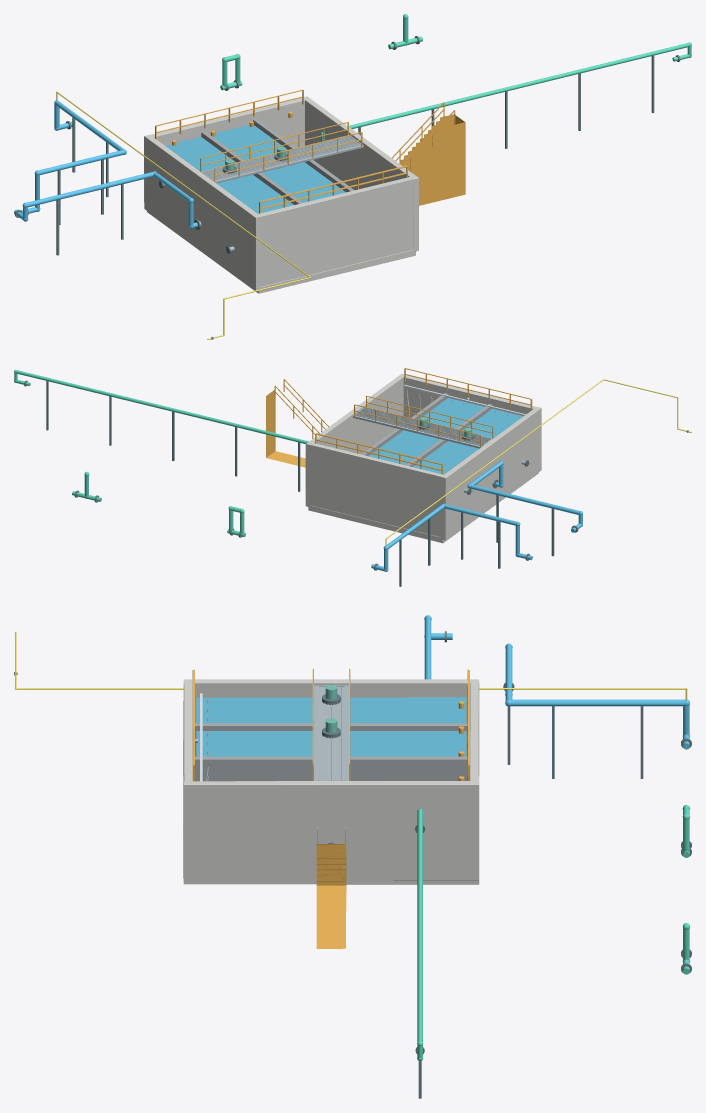
3 views of the same model, one above another, from view 1: azimuth 30°, elevation 25°; view 2: azimuth 150°, elevation 25°; view 3: azimuth 270°, elevation 25° (orthographic). The views are drawn at different scales.
Parts seen in each view (by area): view 1: render-batch-8, render-batch-10, render-batch-3, render-batch-0, render-batch-1, render-batch-7, render-batch-4, render-batch-6, render-batch-11; view 2: render-batch-8, render-batch-3, render-batch-10, render-batch-0, render-batch-1, render-batch-4, render-batch-7, render-batch-6, render-batch-11, render-batch-9; view 3: render-batch-8, render-batch-3, render-batch-6, render-batch-10, render-batch-7, render-batch-0, render-batch-1, render-batch-4, render-batch-11.
Part boxes in pixels (left/top/right/bottom): render-batch-8: left=144, top=96, right=418, bottom=293; render-batch-10: left=155, top=89, right=465, bottom=213; render-batch-3: left=165, top=125, right=345, bottom=213; render-batch-0: left=14, top=100, right=197, bottom=228; render-batch-1: left=220, top=14, right=691, bottom=141; render-batch-7: left=163, top=135, right=363, bottom=251; render-batch-4: left=14, top=36, right=680, bottom=339; render-batch-6: left=201, top=118, right=354, bottom=204; render-batch-11: left=56, top=91, right=311, bottom=339; render-batch-8: left=305, top=374, right=541, bottom=543; render-batch-3: left=369, top=398, right=523, bottom=474; render-batch-10: left=266, top=368, right=532, bottom=474; render-batch-0: left=371, top=461, right=582, bottom=571; render-batch-1: left=14, top=369, right=331, bottom=537; render-batch-4: left=24, top=380, right=688, bottom=586; render-batch-7: left=353, top=397, right=525, bottom=492; render-batch-6: left=361, top=393, right=492, bottom=466; render-batch-11: left=385, top=379, right=691, bottom=546; render-batch-9: left=403, top=384, right=525, bottom=418; render-batch-8: left=183, top=679, right=479, bottom=884; render-batch-3: left=196, top=697, right=466, bottom=756; render-batch-6: left=195, top=723, right=467, bottom=781; render-batch-10: left=192, top=668, right=470, bottom=948; render-batch-7: left=195, top=685, right=348, bottom=780; render-batch-0: left=424, top=615, right=689, bottom=749; render-batch-1: left=417, top=805, right=690, bottom=1061; render-batch-4: left=14, top=631, right=691, bottom=1098; render-batch-11: left=15, top=632, right=687, bottom=747.
Bounding box in the file's own units: 51.64 × 6.75 × 34.37.
